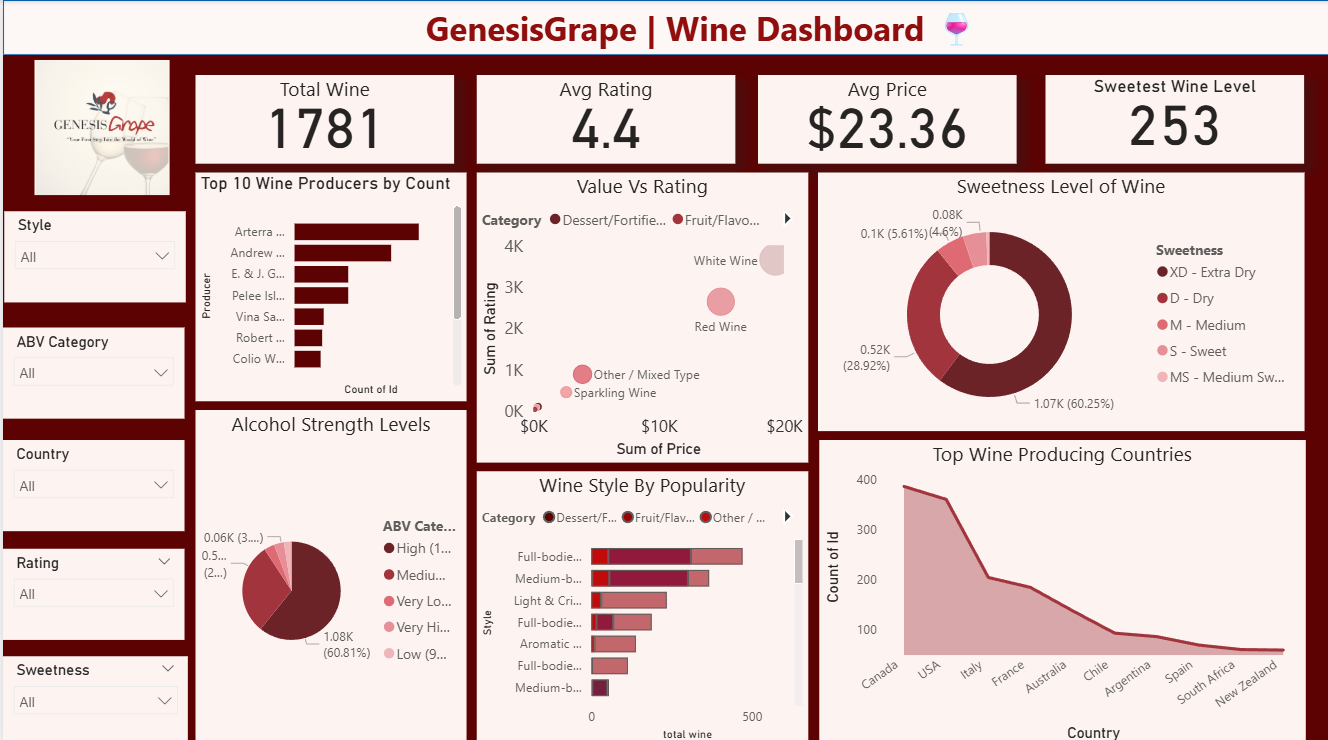

This screenshot's page, from the dashboard's own definition file:
{"tool":"powerbi","page":{"name":"Page 1","canvas":[1280,720],"ordinal":0},"visuals":[{"type":"shape","box":[0,0,1280,53.1],"z":0},{"type":"textbox","box":[403,0,575.5,77.2],"z":1000},{"type":"card","title":"Total Wine","fields":{"Values":["winecsv.Id"]},"box":[185.8,72.4,249.7,85.7],"z":2000},{"type":"card","title":"Avg Price","fields":{"Values":["winecsv.Price"]},"box":[728.7,72.4,249.7,85.7],"z":3000},{"type":"card","title":"Avg Rating","fields":{"Values":["winecsv.Rating"]},"box":[457.2,72.4,249.7,85.7],"z":4000},{"type":"card","title":"Sweetest Wine Level","fields":{"Values":["winecsv.Sugar"]},"box":[1006.2,72.4,249.7,85.7],"z":5000},{"type":"scatterChart","title":"Value Vs Rating","fields":{"X":["winecsv.Price"],"Y":["winecsv.Rating"],"Size":["winecsv.Total_alcohol_ml"],"Series":["winecsv.Category"]},"box":[457.2,166.5,319.7,279.9],"z":6000},{"type":"barChart","title":"Wine Style By Popularity","fields":{"Y":["winecsv.Id"],"Category":["winecsv.Style"],"Series":["winecsv.Category"]},"box":[457.2,454.8,319.7,265.4],"z":7000},{"type":"donutChart","title":"Sweetness Level of Wine","fields":{"Category":["winecsv.Sweetness"],"Y":["winecsv.Id"]},"box":[786.6,166.5,469.3,249.7],"z":8000},{"type":"clusteredBarChart","title":"Top 10 Wine Producers by Count","fields":{"Category":["winecsv.Producer"],"Y":["winecsv.Id"]},"box":[185.8,166.5,261.8,220.8],"z":9000},{"type":"areaChart","title":"Top Wine Producing Countries","fields":{"Category":["winecsv.Country"],"Y":["winecsv.Id"]},"box":[787.8,424.7,469.3,295.6],"z":10000},{"type":"pieChart","title":"Alcohol Strength Levels","fields":{"Category":["winecsv.ABV Category"],"Y":["winecsv.Id"]},"box":[185.8,395.7,261.8,324.5],"z":11000},{"type":"slicer","fields":{"Values":["winecsv.ABV Category"]},"box":[0,316.1,174.9,88.1],"z":12000},{"type":"slicer","fields":{"Values":["winecsv.Country"]},"box":[0,424.7,174.9,88.1],"z":13000},{"type":"slicer","fields":{"Values":["winecsv.Rating"]},"box":[0,529.6,174.9,88.1],"z":14000},{"type":"slicer","fields":{"Values":["winecsv.Sweetness"]},"box":[0,633.4,178.6,86.9],"z":15000},{"type":"slicer","fields":{"Values":["winecsv.Style"]},"box":[1.2,203.9,174.9,88.1],"z":16000},{"type":"image","box":[0,53.1,191.8,139.9],"z":17000}]}

Visuals, with their boxes in screenshot pixels (x1, y1, x2, y2), scaled from the page's 1280x720 canvas onto the 1328x740 screenshot:
shape: (0, 0, 1327, 55)
textbox: (418, 0, 1015, 79)
"Total Wine" card: (193, 74, 452, 162)
"Avg Price" card: (756, 74, 1015, 162)
"Avg Rating" card: (474, 74, 733, 162)
"Sweetest Wine Level" card: (1044, 74, 1303, 162)
"Value Vs Rating" scatterChart: (474, 171, 806, 459)
"Wine Style By Popularity" barChart: (474, 467, 806, 739)
"Sweetness Level of Wine" donutChart: (816, 171, 1303, 428)
"Top 10 Wine Producers by Count" clusteredBarChart: (193, 171, 464, 398)
"Top Wine Producing Countries" areaChart: (817, 436, 1304, 739)
"Alcohol Strength Levels" pieChart: (193, 407, 464, 739)
slicer - winecsv.ABV Category: (0, 325, 181, 415)
slicer - winecsv.Country: (0, 436, 181, 527)
slicer - winecsv.Rating: (0, 544, 181, 635)
slicer - winecsv.Sweetness: (0, 651, 185, 739)
slicer - winecsv.Style: (1, 210, 183, 300)
image: (0, 55, 199, 198)
